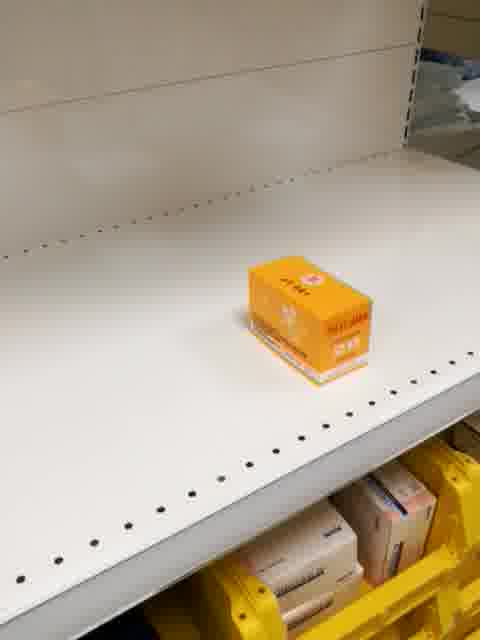jasminetea: (244, 251, 375, 390)
